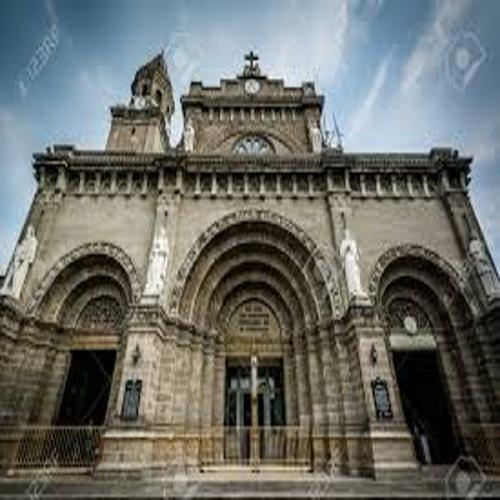Manila Cathedral Church: (7, 33, 499, 485)
